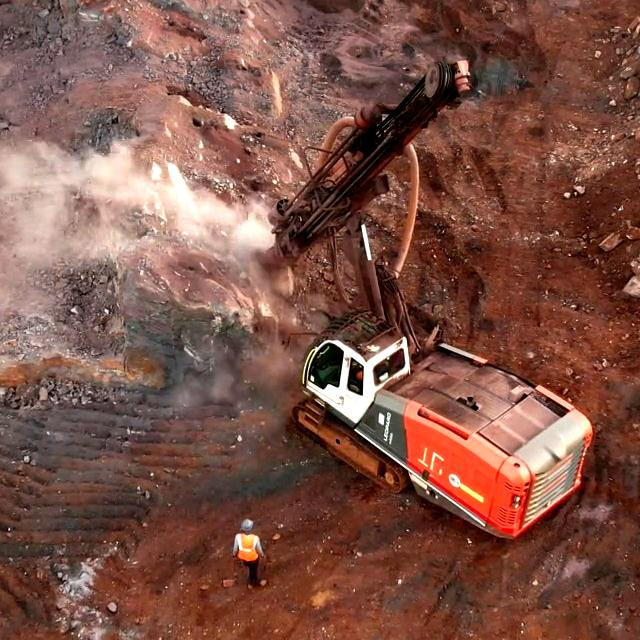Blast rig: (303, 325, 456, 466)
person: (231, 519, 265, 588)
